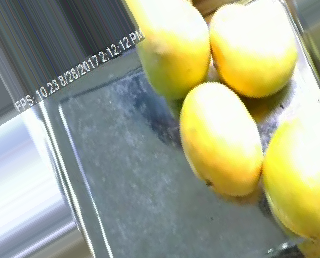Mango: (170, 81, 267, 197), (209, 1, 301, 100), (125, 0, 211, 99), (262, 112, 320, 239)
